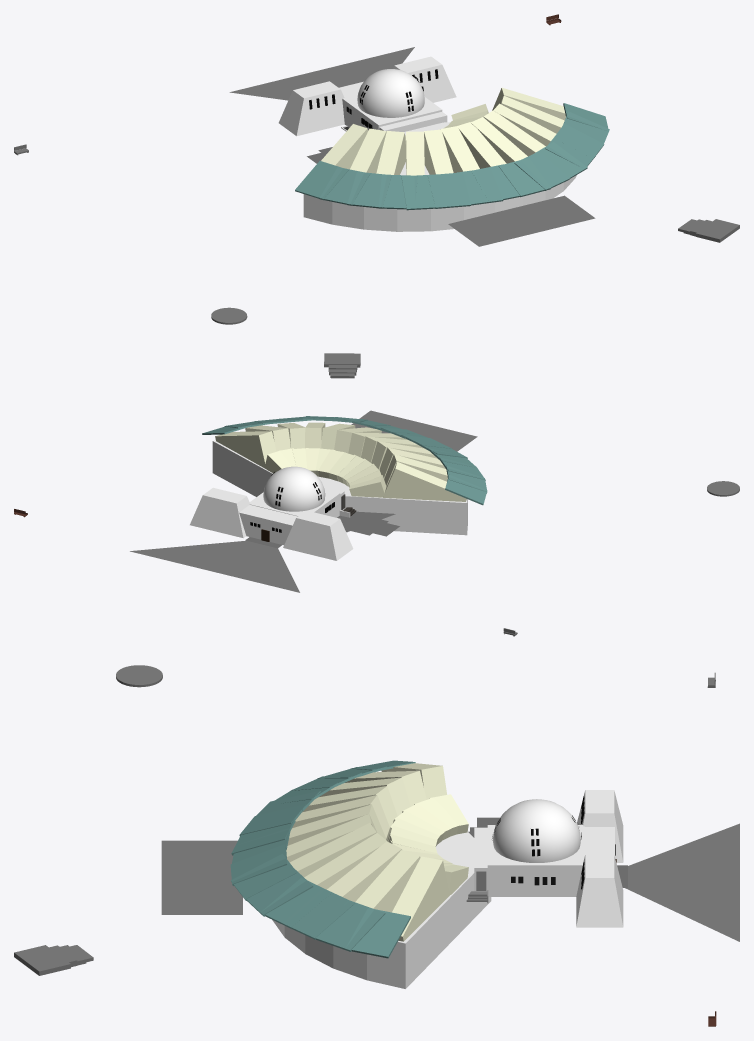
File: asmundarsafn_nyasta_utgafa.obj
3 views of the same model, one above another, from view 1: azimuth 30°, elevation 25°; view 2: azimuth 150°, elevation 25°; view 3: azimuth 270°, elevation 25° (orthographic). The views are drawn at different scales.
Parts seen in each view (by area): view 1: Cube.047, Cube.033, syningarsalur, Plane.035, pavement, Sphere, h_hlid, v_hlid, innanhus, Cube, Cube.019, Cylinder; view 2: Cube.033, syningarsalur, pavement, Cube.047, h_hlid, Sphere, v_hlid, Plane.035, adaldyr, Cube, innanhus, Plane.001; view 3: Cube.033, Cube.047, pavement, syningarsalur, Plane.035, Sphere, innanhus, v_hlid, h_hlid, Cube, adaldyr, Cylinder (+1 smaller).
Boxes of the visible parts, left/top/right/bottom form: Cube.047: left=295, top=103, right=609, bottom=210; Cube.033: left=321, top=87, right=565, bottom=175; syningarsalur: left=303, top=122, right=576, bottom=231; Plane.035: left=448, top=195, right=595, bottom=246; pavement: left=229, top=47, right=414, bottom=100; Sphere: left=357, top=69, right=424, bottom=117; h_hlid: left=278, top=81, right=344, bottom=136; v_hlid: left=393, top=56, right=456, bottom=102; innanhus: left=342, top=94, right=442, bottom=130; Cube: left=678, top=219, right=739, bottom=242; Cube.019: left=379, top=112, right=447, bottom=131; Cylinder: left=211, top=307, right=247, bottom=324; Cube.033: left=215, top=422, right=466, bottom=501; syningarsalur: left=212, top=440, right=467, bottom=535; pavement: left=130, top=540, right=299, bottom=592; Cube.047: left=202, top=416, right=487, bottom=505; h_hlid: left=283, top=510, right=353, bottom=560; Sphere: left=263, top=466, right=325, bottom=511; v_hlid: left=190, top=487, right=250, bottom=538; Plane.035: left=351, top=410, right=477, bottom=451; adaldyr: left=239, top=505, right=297, bottom=545; Cube: left=324, top=353, right=360, bottom=378; innanhus: left=250, top=489, right=340, bottom=517; Plane.001: left=337, top=511, right=395, bottom=532; Cube.033: left=286, top=763, right=468, bottom=941; Cube.047: left=230, top=760, right=415, bottom=958; pavement: left=625, top=823, right=739, bottom=941; syningarsalur: left=272, top=831, right=491, bottom=988; Plane.035: left=161, top=840, right=242, bottom=914; Sphere: left=493, top=799, right=580, bottom=862; innanhus: left=487, top=825, right=584, bottom=896; v_hlid: left=576, top=854, right=623, bottom=927; h_hlid: left=577, top=790, right=623, bottom=862; Cube: left=14, top=945, right=93, bottom=975; adaldyr: left=584, top=827, right=614, bottom=856; Cylinder: left=116, top=665, right=162, bottom=687.
Bounding box in the file's own units: 72.47 × 9.13 × 61.73.
